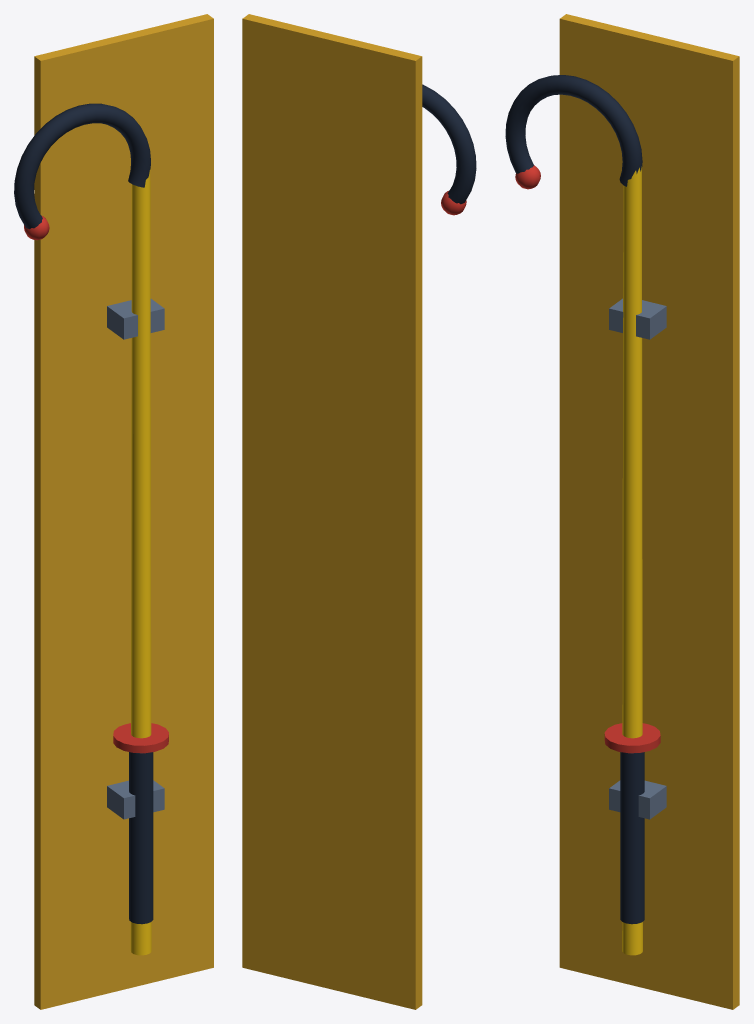
Rendered from rescue-hook.glb.
3 renders of one model, left to right at view 1: azimuth 30°, elevation 25°; view 2: azimuth 150°, elevation 25°; view 3: azimuth 330°, elevation 25°, orthographic.
Parts seen in each view (by area): view 1: HVRescueHook; view 2: HVRescueHook; view 3: HVRescueHook.
Part boxes in pixels (x1=…): HVRescueHook: x1=14, y1=14, x2=213, y2=1009; HVRescueHook: x1=242, y1=14, x2=476, y2=1009; HVRescueHook: x1=505, y1=14, x2=739, y2=1009.
Size of the model in its own units: 0.4169 by 1.78 by 0.117.
